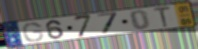0: (129, 9, 152, 31)
6: (45, 19, 66, 40)
7: (96, 11, 120, 36), (73, 14, 94, 39)
G: (22, 21, 46, 43)
T: (152, 5, 172, 29)
